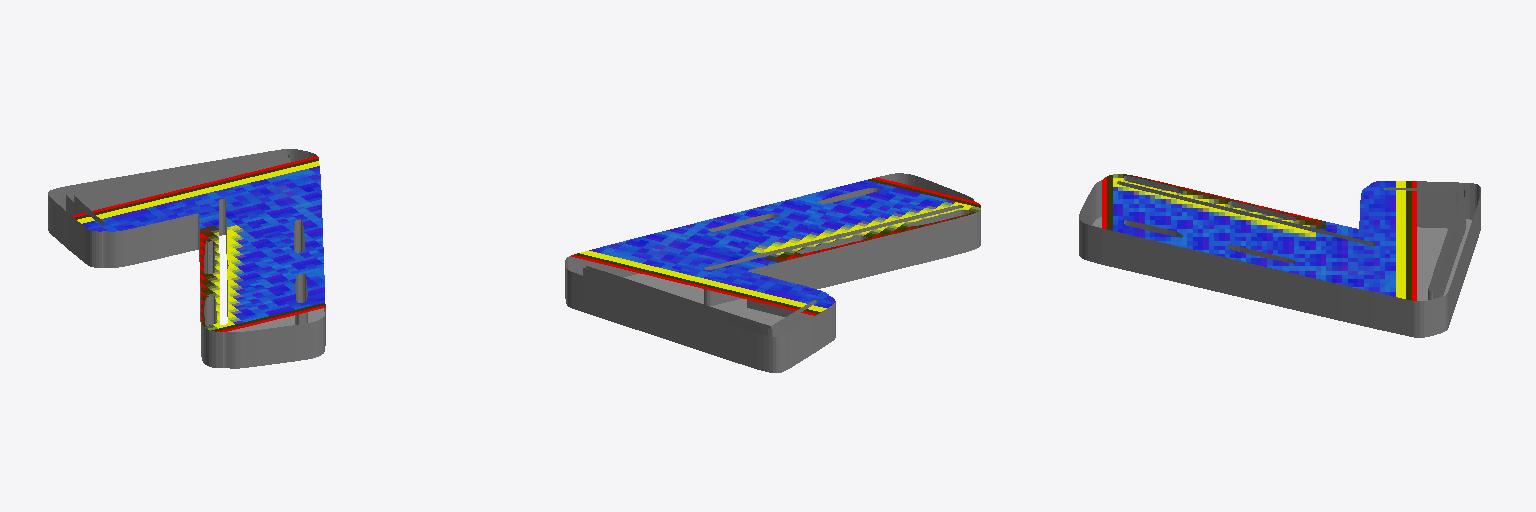
3 renders of one model, left to right at view 1: azimuth 30°, elevation 25°; view 2: azimuth 150°, elevation 25°; view 3: azimuth 270°, elevation 25°, orthographic.
Parts seen in each view (by area): view 1: 7; view 2: 7; view 3: 7.
Boxes of the visible parts, x1=… form: 7: x1=48, y1=149, x2=325, y2=368; 7: x1=565, y1=173, x2=980, y2=372; 7: x1=1079, y1=174, x2=1480, y2=337.
Bounding box in the file's own units: 15 × 2 × 20.
2 materials, 1 textured.